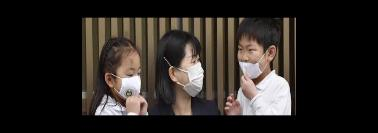mask_weared_incorrect: (238, 43, 265, 74)
with_mask: (183, 55, 205, 96), (121, 65, 144, 98)
